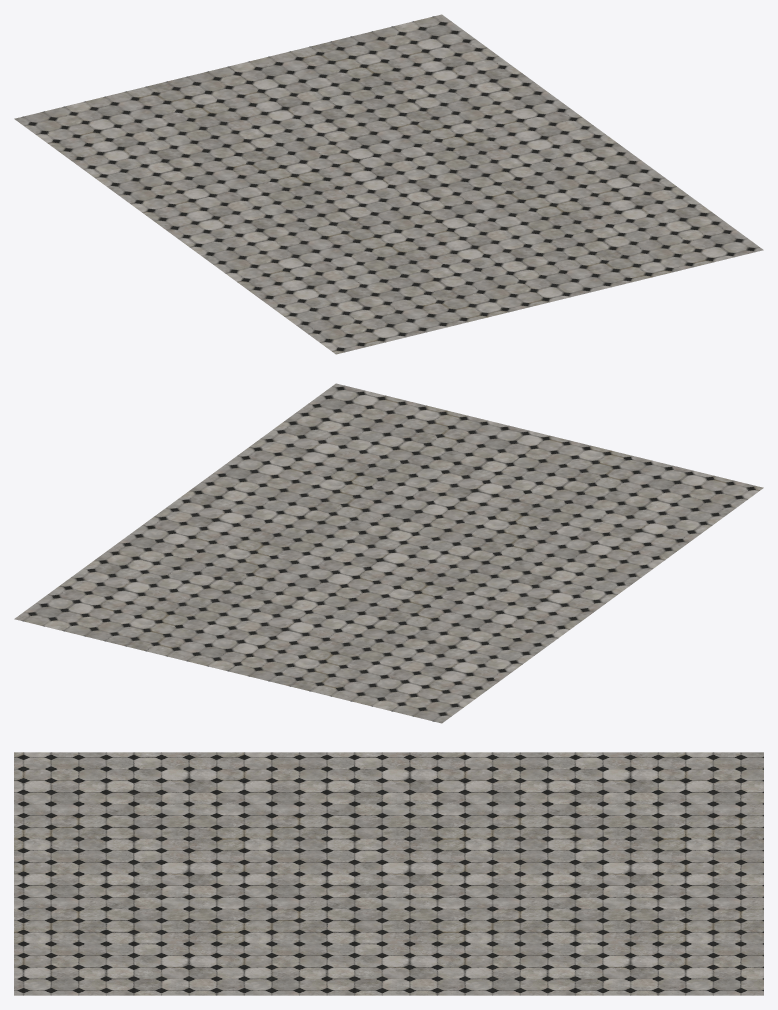
The model's file is LobbyFloorV2.fbx.
The picture shows the model from 3 angles, top to bottom: view 1: azimuth 30°, elevation 25°; view 2: azimuth 150°, elevation 25°; view 3: azimuth 270°, elevation 25°; orthographic projection. The views are drawn at different scales.
Parts seen in each view (by area): view 1: pPlane1; view 2: pPlane1; view 3: pPlane1.
Boxes of the visible parts, box(x1,y1,x2,y2) form: pPlane1: box(14, 14, 763, 354); pPlane1: box(14, 383, 763, 723); pPlane1: box(14, 752, 763, 995).
Bounding box in the file's own units: 34.95 × 0 × 45.56.
